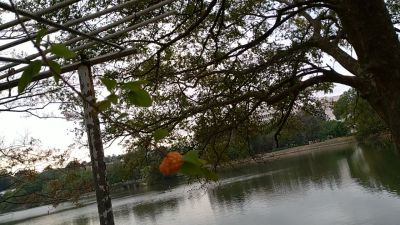eggs: (158, 150, 184, 176)
